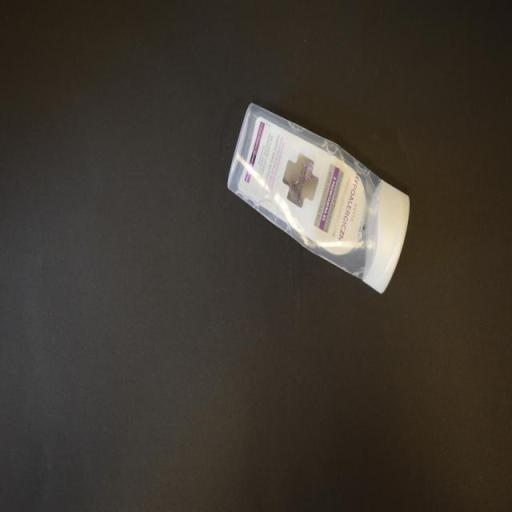plastic: (224, 99, 412, 298)
